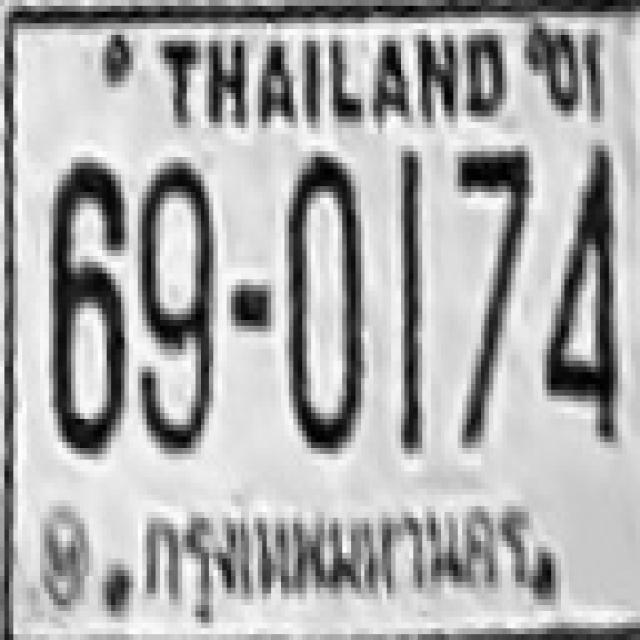0: (284, 151, 360, 448)
1: (396, 147, 426, 454)
4: (540, 143, 616, 439)
6: (51, 160, 127, 451)
7: (454, 146, 529, 450)
9: (138, 160, 218, 451)
BKK: (127, 494, 539, 628)
